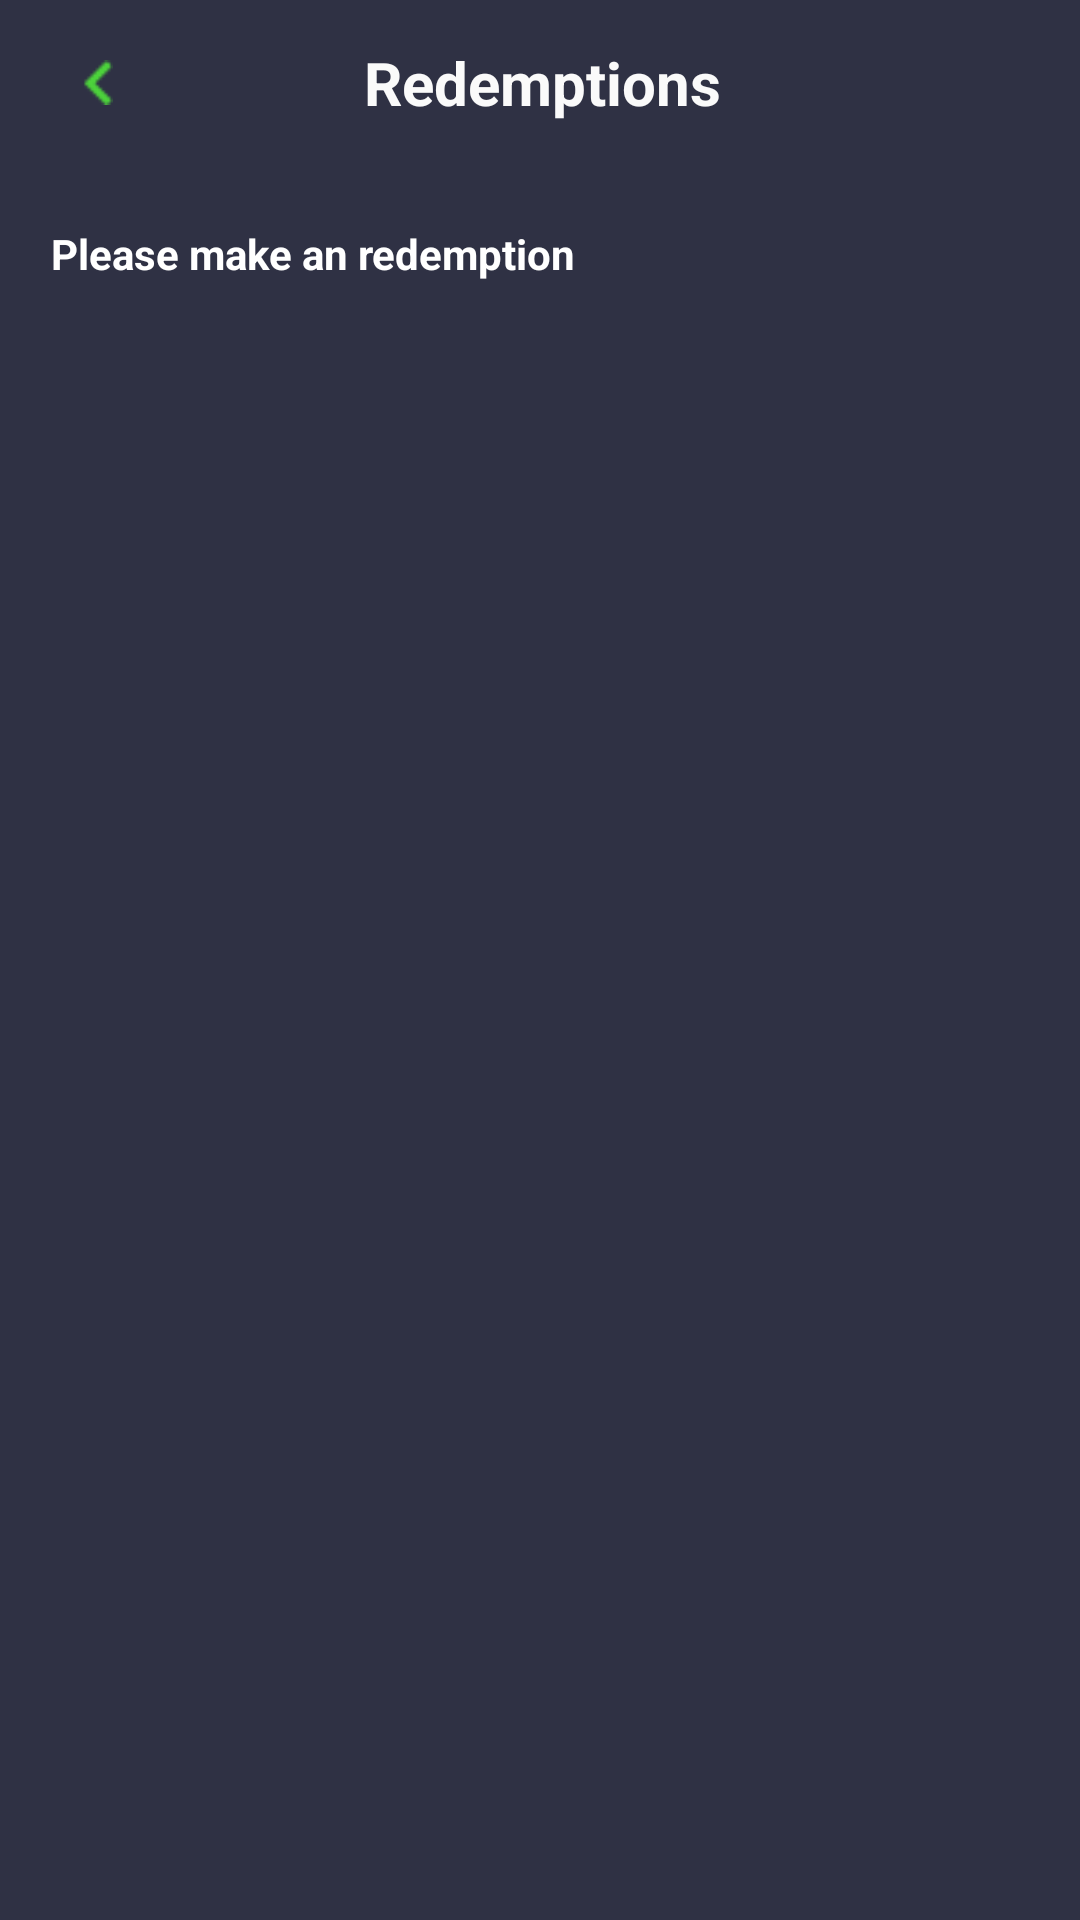

Point at icon controls on the screen. Image size 1080px x 1920px, points as point (x, y).
chevronleft: point (98, 82)
